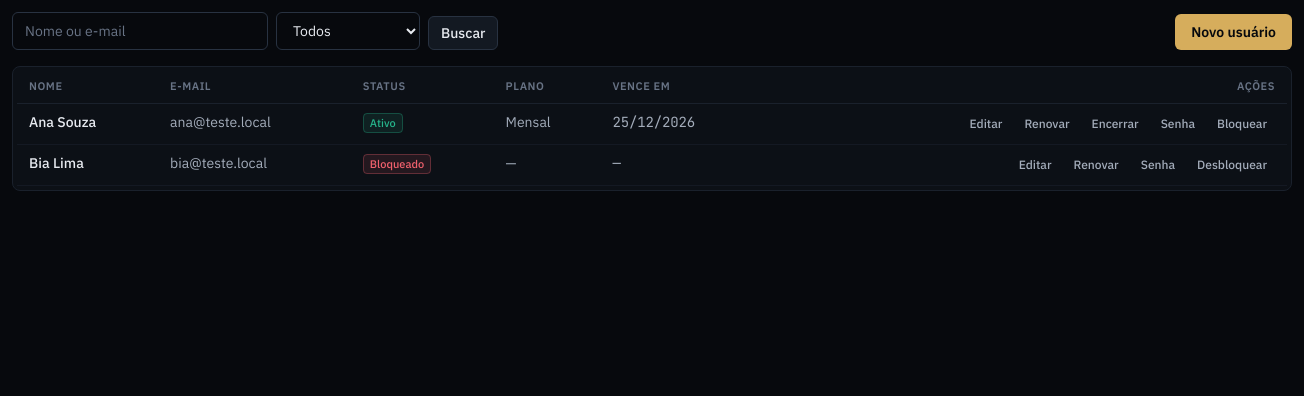
it: GestaoUsuarios › criar valida a senha temporária
Expected: the text "ana@teste.local" is shown, [158, 104, 351, 144]
Click the button "Novo usuário" at x=1234, y=32, box [1175, 14, 1292, 50]
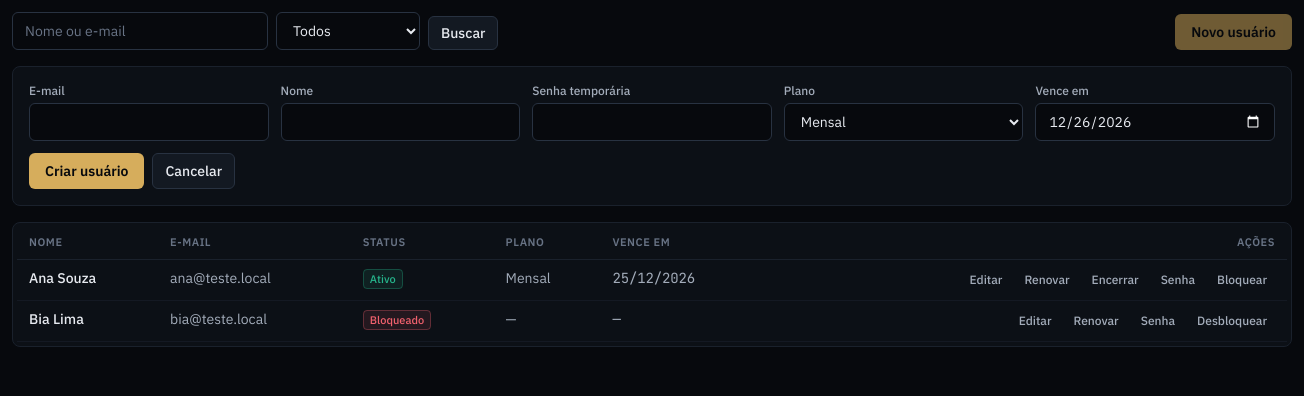
Type "novo@teste.local" into the field labelled "E-mail" at x=149, y=122, box [29, 103, 269, 141]
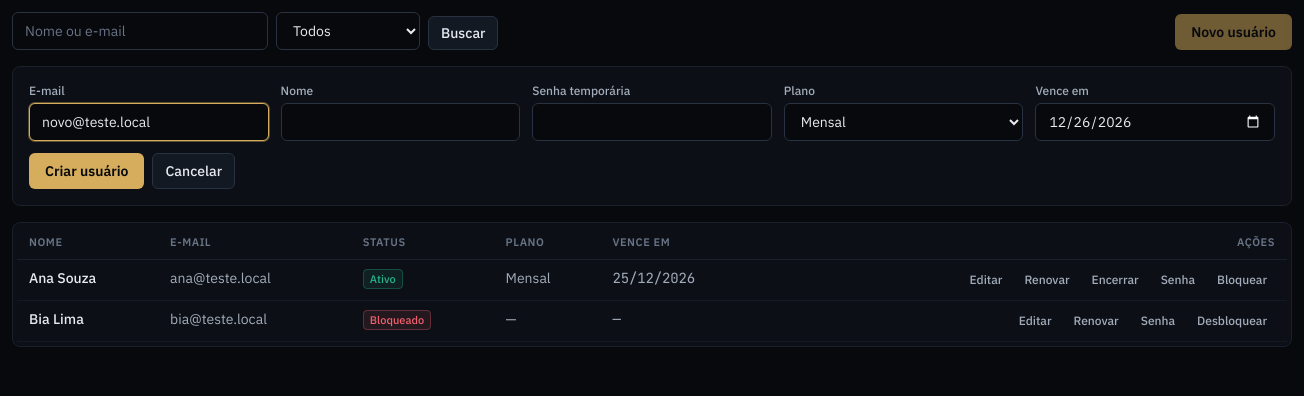
Type "Novo Cliente" into the field labelled "Nome" at x=400, y=122, box [281, 103, 520, 141]
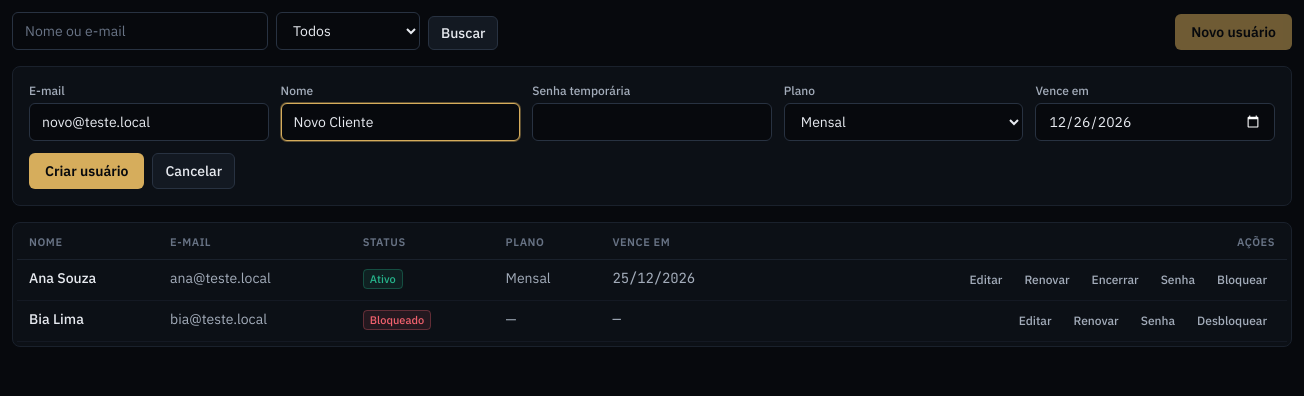
Type "curta" into the field labelled "Senha temporária" at x=652, y=122, box [532, 103, 772, 141]
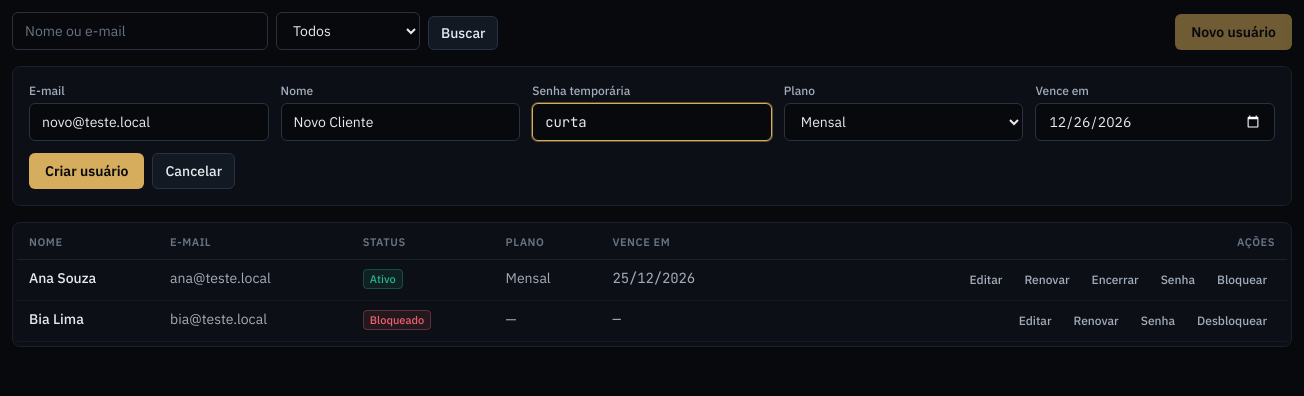
Click the button "Criar usuário" at x=87, y=171, box [29, 153, 144, 189]
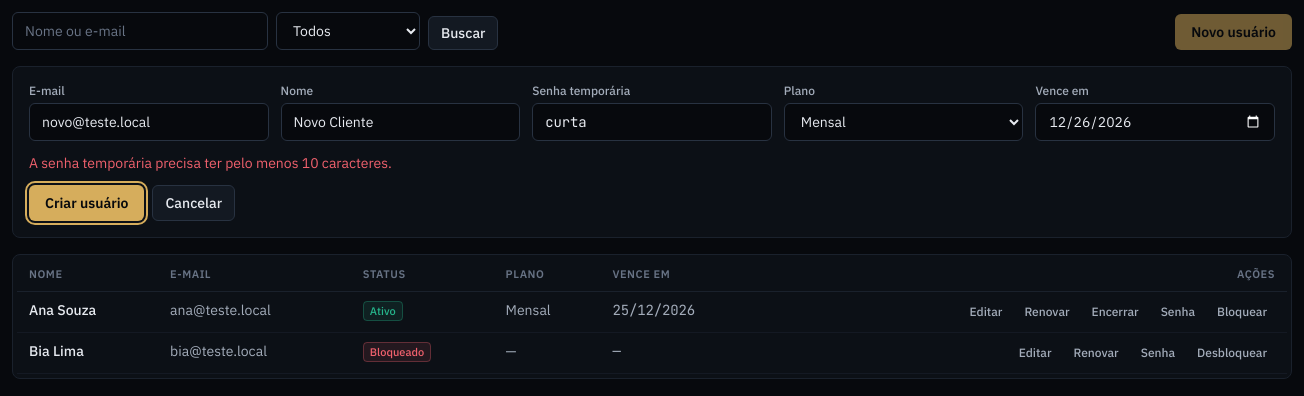
Expected: the message reads "A senha temporária precisa ter pelo menos 10 caracteres.", [29, 154, 392, 172]
